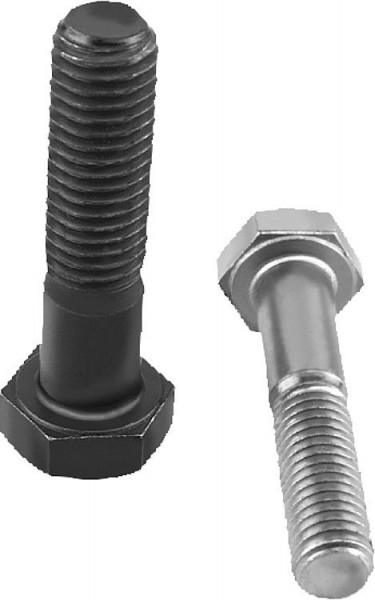screw: (1, 1, 175, 481), (216, 207, 374, 600)
